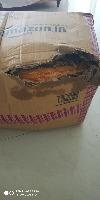damaged package: (4, 47, 98, 88)
undamaged: (0, 8, 98, 130)
